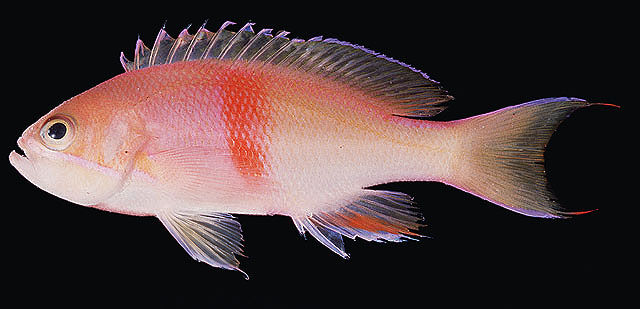fish: (8, 18, 621, 281)
